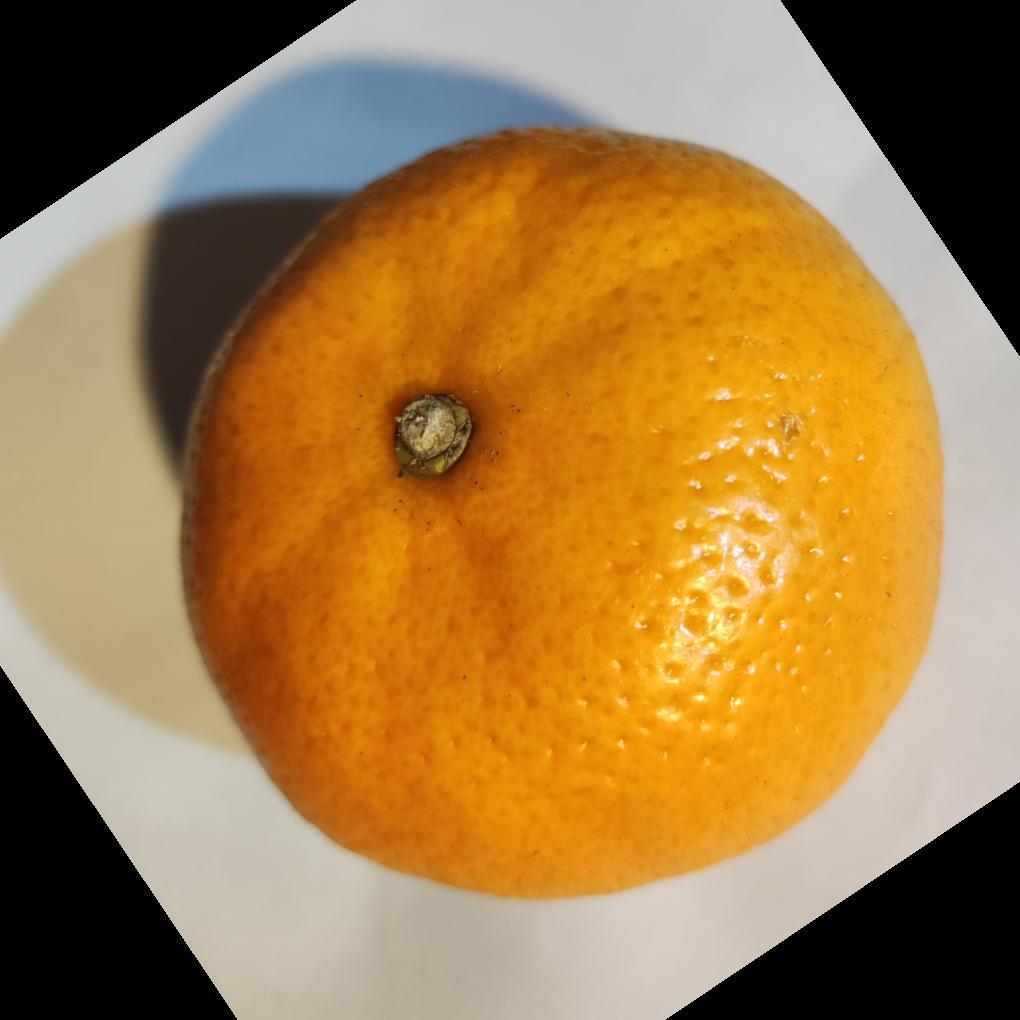FreshGuava: (176, 127, 946, 906)
